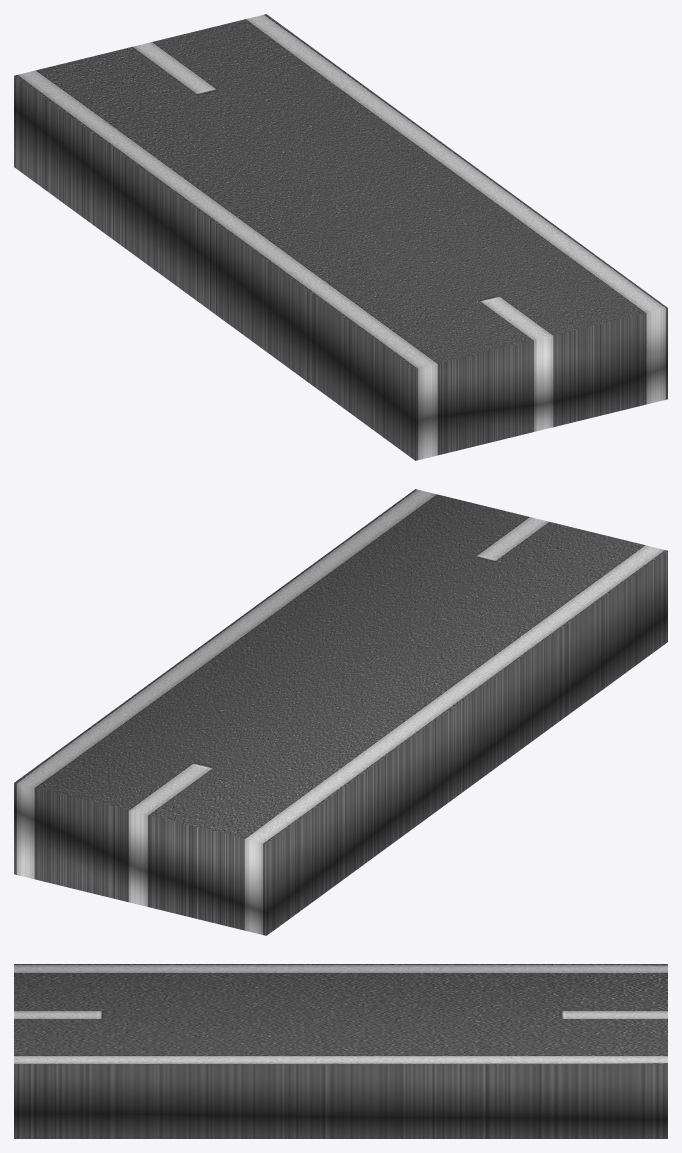
The model's file is douro.fbx.
The picture shows the model from 3 angles, top to bottom: view 1: azimuth 30°, elevation 25°; view 2: azimuth 150°, elevation 25°; view 3: azimuth 270°, elevation 25°; orthographic projection. The views are drawn at different scales.
Parts seen in each view (by area): view 1: douro; view 2: douro; view 3: douro.
Part boxes in pixels (x1,y1,x2,y2): douro: (14,14,667,460); douro: (14,489,667,935); douro: (14,964,667,1138).
Bounding box in the file's own units: 578 × 200 × 1593.
